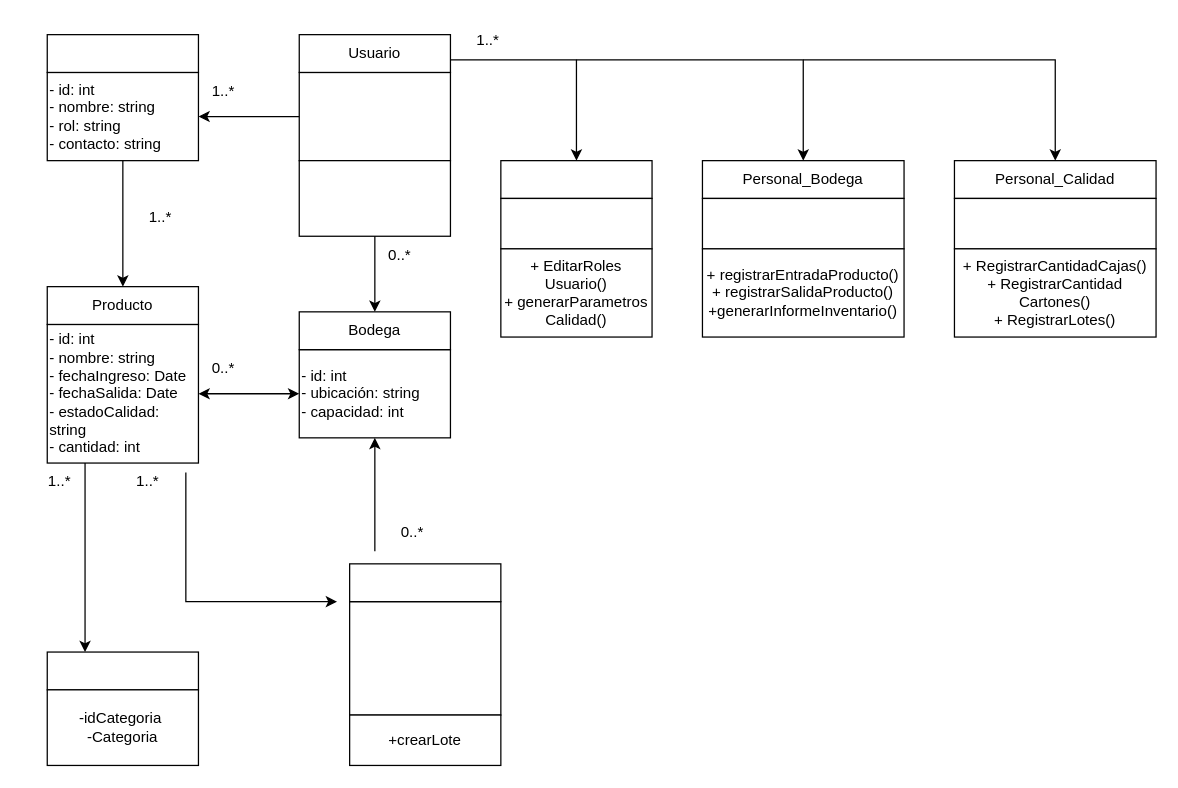
Some shapes in this 1178 by 788 pixel diagram are drawn without their labels. Here are the shapes that lost their labels. From the top down, the centre of each, then its label:
point (122, 52): Proveedor
point (374, 116): - id: int - nombre: string - rol: string
point (374, 197): + autentícar (contraseña: string): bool
point (576, 178): Gerencia
point (424, 582): Proceso_Calidad
point (122, 670): Tipo Producto
point (424, 657): - id: int - fechaInspección: Date - resultado: string - inspector: string
